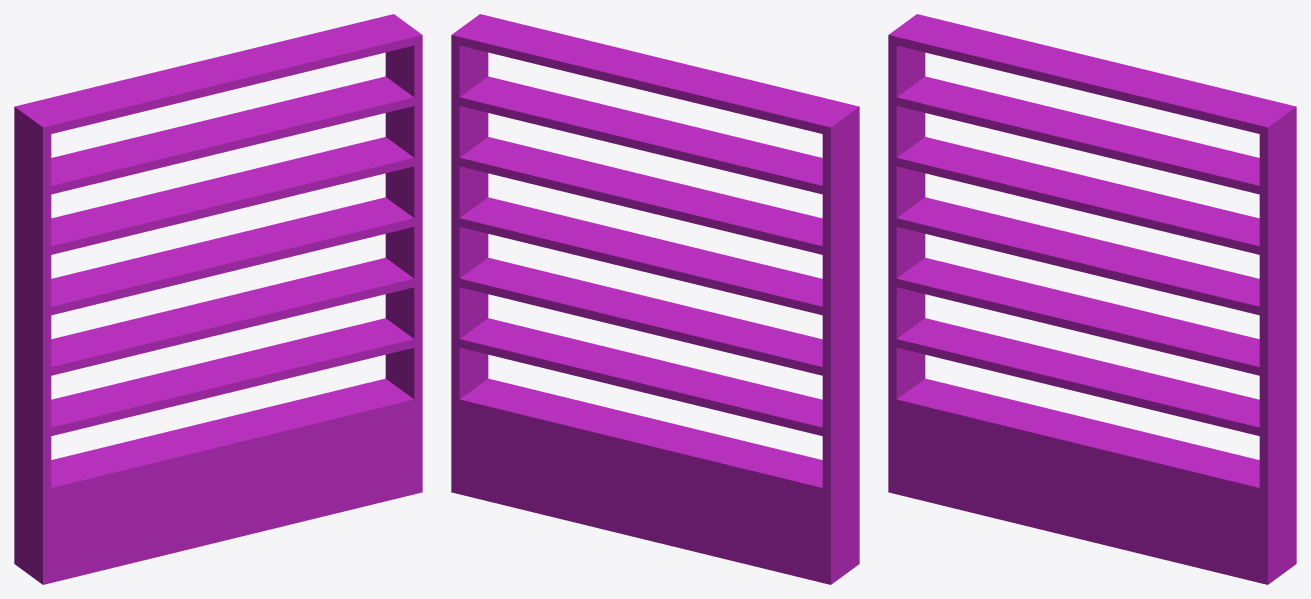
The model's file is library.fbx.
3 views of the same model, side by side, from view 1: azimuth 30°, elevation 25°; view 2: azimuth 150°, elevation 25°; view 3: azimuth 330°, elevation 25° (orthographic).
Visible parts, largest first — view 1: library; view 2: library; view 3: library.
Part boxes in pixels (left/top/right/bottom): library: left=14, top=14, right=422, bottom=584; library: left=451, top=14, right=859, bottom=584; library: left=888, top=14, right=1296, bottom=584.
Size of the model in its own units: 230 by 30 by 265.
